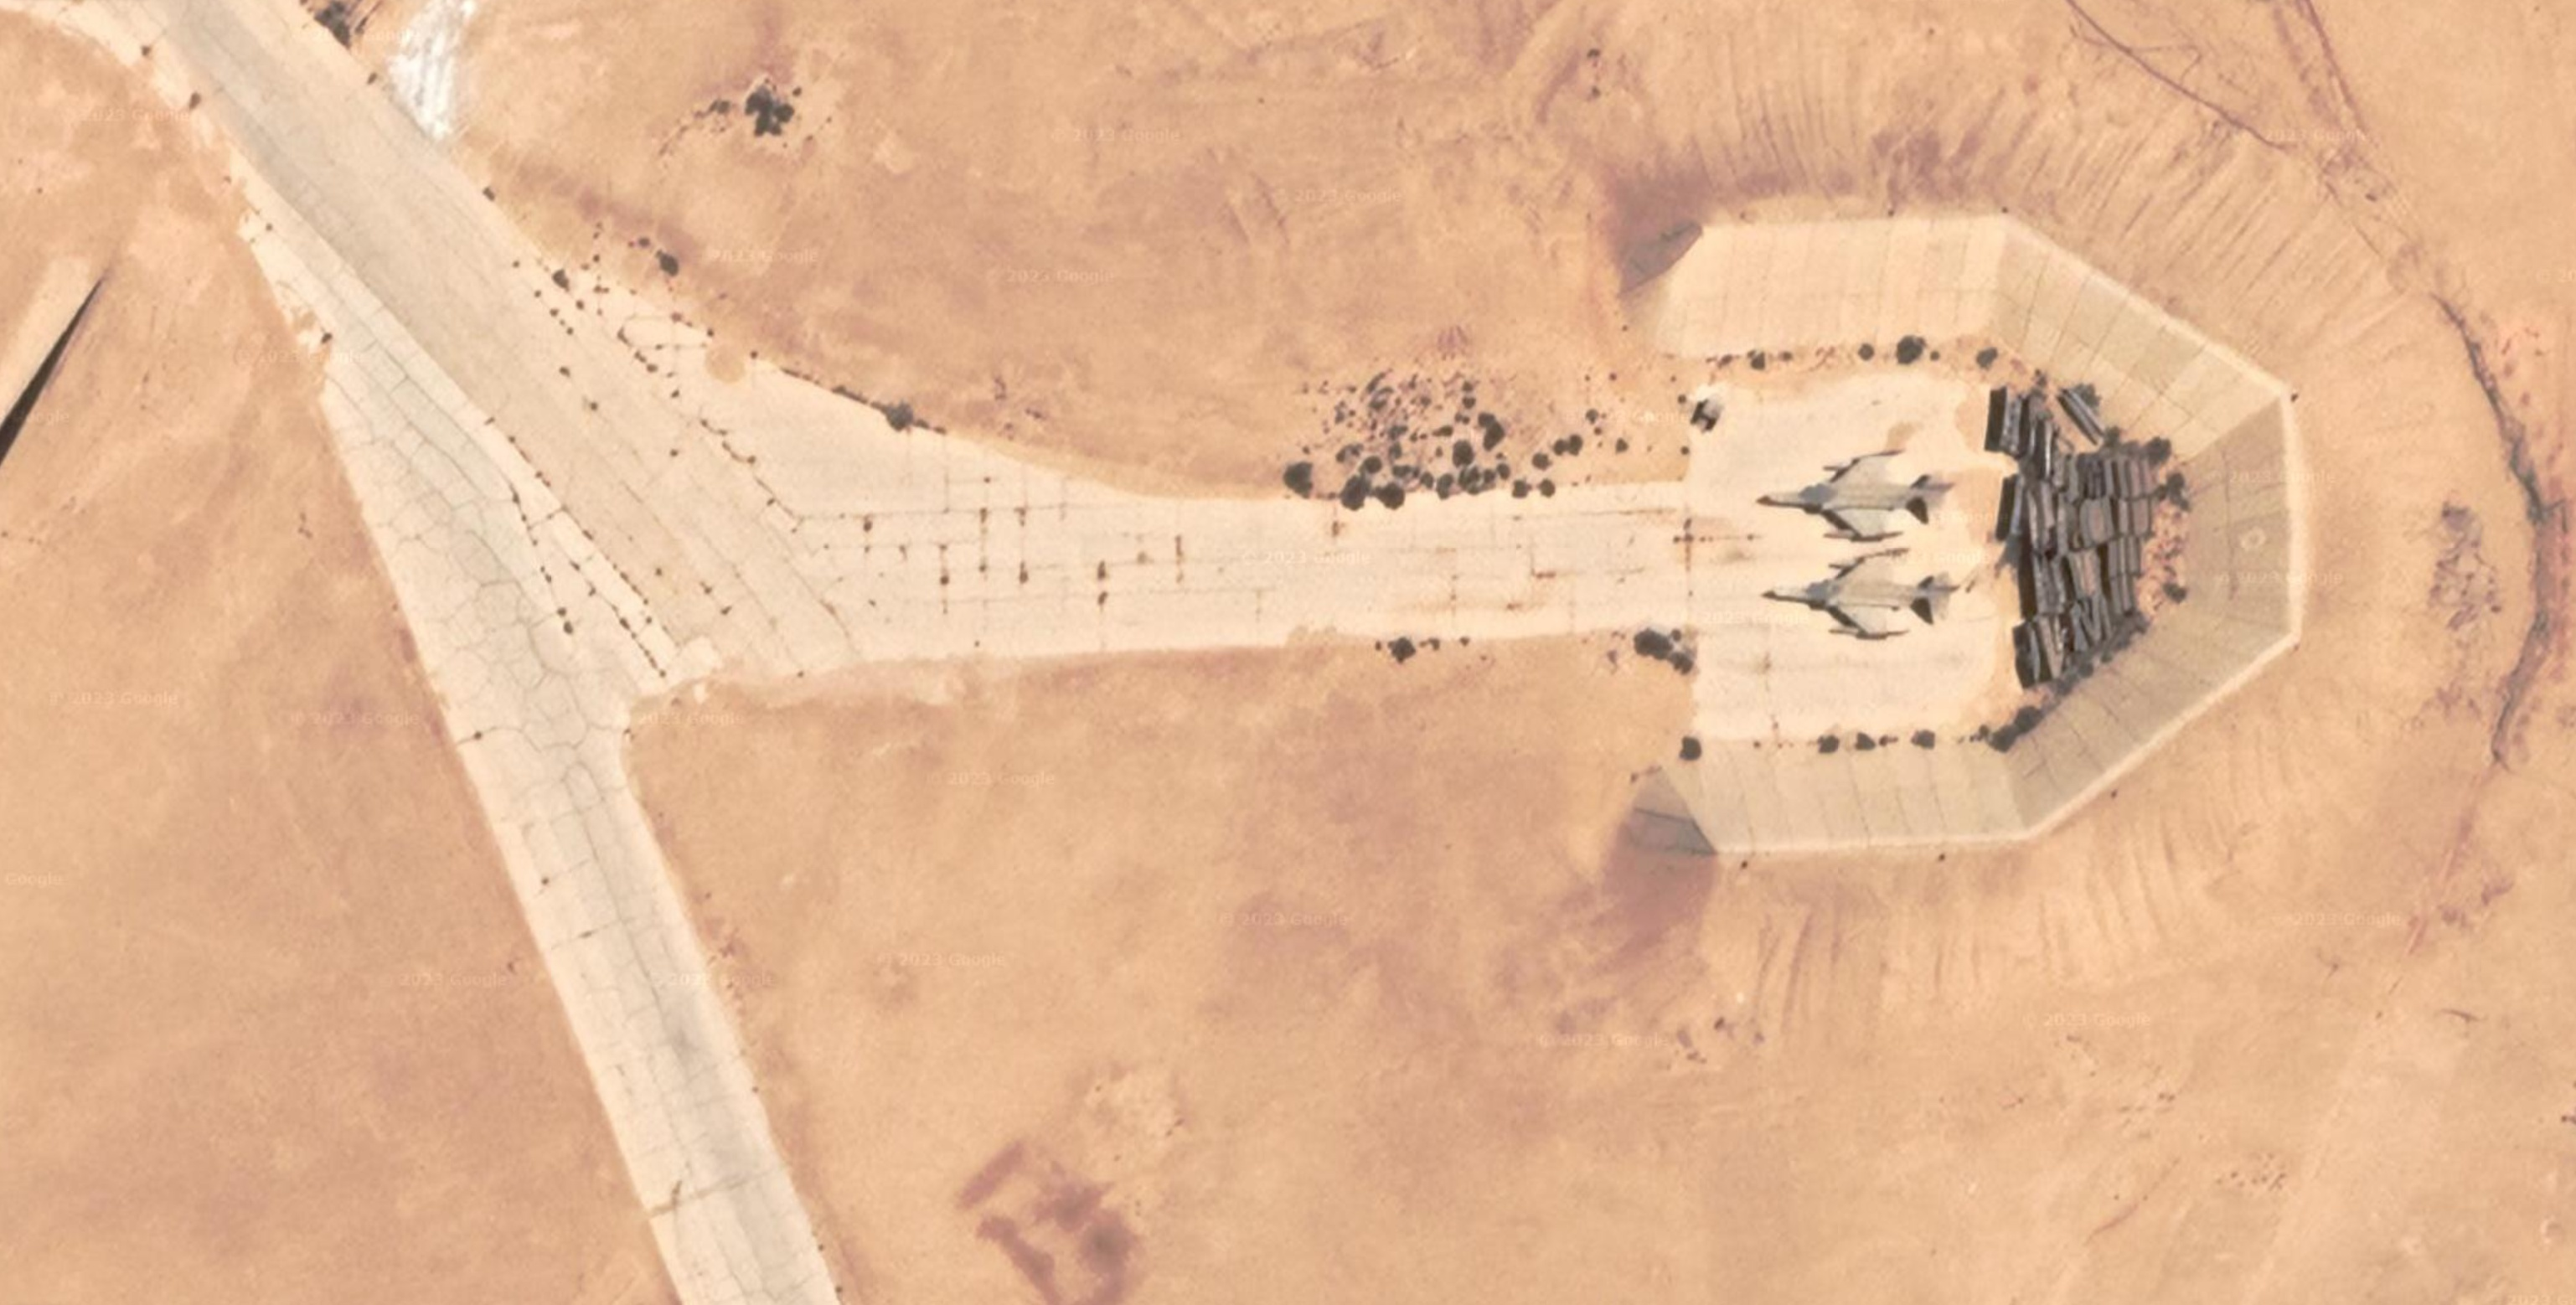F4: (1771, 548, 1960, 636), (1767, 453, 1959, 539)
